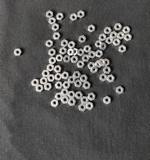nut: (104, 96, 112, 105), (86, 102, 94, 111), (31, 79, 40, 87), (125, 34, 133, 42), (119, 45, 127, 53), (104, 27, 112, 35), (106, 37, 114, 45), (99, 34, 107, 42), (100, 74, 108, 82), (95, 60, 103, 68), (91, 66, 99, 74), (88, 62, 96, 70), (96, 50, 104, 58), (88, 25, 96, 33), (70, 14, 78, 22), (88, 93, 96, 101), (81, 97, 89, 105), (79, 104, 87, 112), (75, 92, 83, 100), (83, 82, 91, 90), (80, 75, 88, 83), (75, 80, 83, 88), (68, 91, 76, 99), (68, 41, 76, 49), (46, 40, 54, 48), (49, 57, 57, 65), (62, 72, 70, 80), (55, 93, 63, 101), (51, 100, 59, 108), (54, 65, 62, 73), (47, 64, 55, 72), (44, 83, 52, 91), (42, 70, 50, 78), (40, 77, 48, 85), (36, 85, 44, 93), (123, 27, 131, 34), (118, 32, 125, 40), (117, 87, 124, 95), (108, 75, 115, 83), (104, 67, 112, 74), (103, 59, 110, 67), (99, 59, 107, 66), (100, 43, 107, 51), (95, 41, 103, 48), (89, 51, 96, 59), (79, 36, 87, 43), (78, 11, 85, 19), (57, 13, 64, 21), (84, 46, 92, 53), (82, 55, 90, 62), (77, 61, 85, 68), (69, 99, 77, 106), (73, 72, 81, 79), (78, 49, 85, 57), (68, 49, 75, 57), (68, 77, 76, 84), (63, 82, 71, 89), (63, 56, 71, 63), (60, 47, 67, 55), (61, 40, 69, 47), (53, 33, 61, 40), (56, 55, 64, 62), (49, 49, 56, 57), (61, 89, 69, 96), (62, 96, 69, 104), (55, 82, 63, 89), (55, 73, 62, 81), (14, 49, 22, 56), (115, 24, 122, 31), (114, 39, 121, 46), (111, 32, 118, 39), (72, 56, 79, 63), (47, 11, 54, 18), (49, 18, 56, 25), (52, 24, 59, 31), (48, 75, 55, 82), (73, 48, 79, 56)
